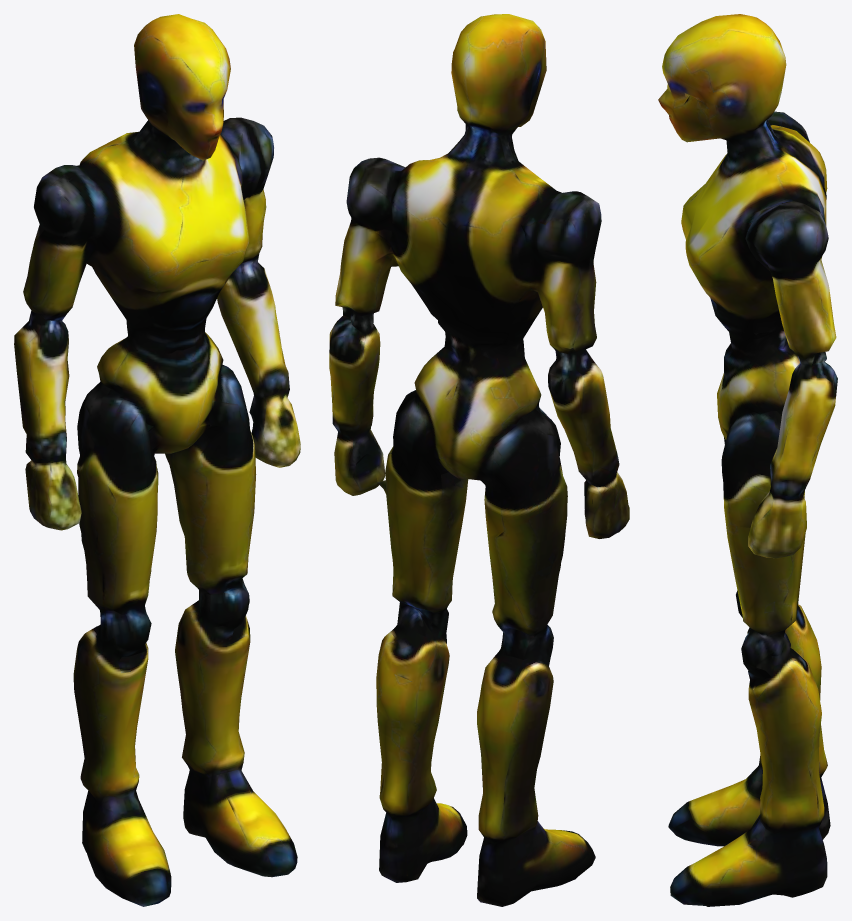
Rendered from p_crash_dummy.glb.
The picture shows the model from 3 angles, left to right: view 1: azimuth 30°, elevation 25°; view 2: azimuth 150°, elevation 25°; view 3: azimuth 270°, elevation 25°; orthographic projection.
Visible parts, largest first — view 1: mesh.obj_1; view 2: mesh.obj_1; view 3: mesh.obj_1.
Boxes of the visible parts, <box> form: mesh.obj_1: <box>14,14,300,906</box>; mesh.obj_1: <box>329,14,629,906</box>; mesh.obj_1: <box>658,14,837,906</box>.
Bounding box in the file's own units: 0.2962 × 0.8901 × 0.1714.
1 material, 1 textured.
